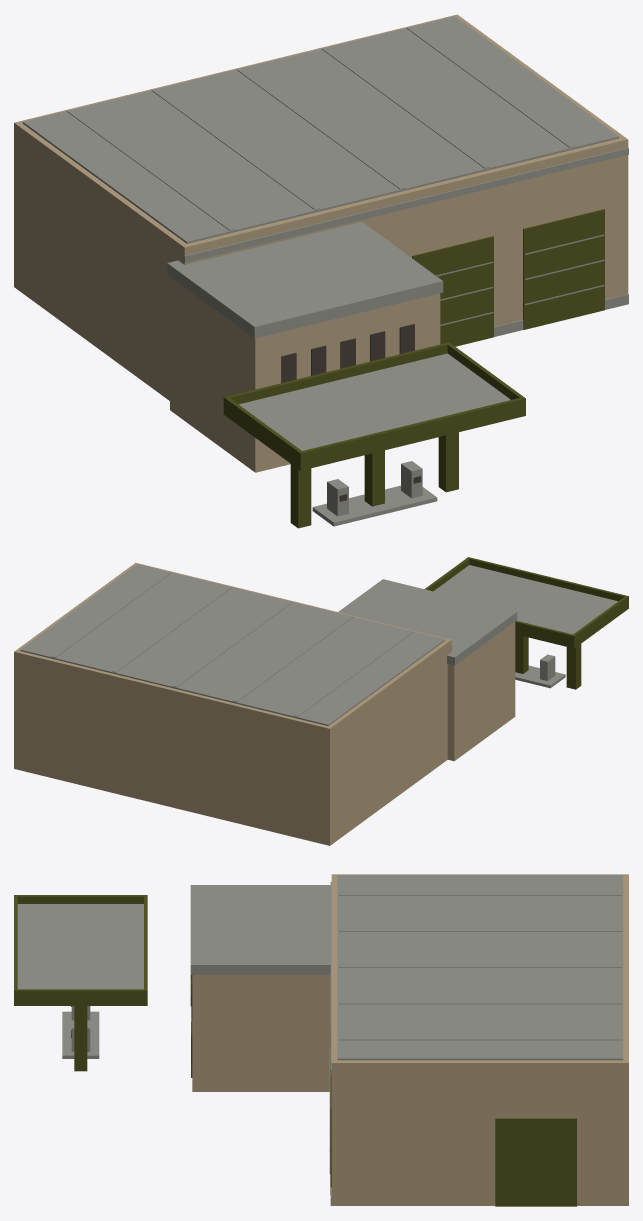
Rendered from SM_Cooperativa_v4_NaveVilavella_LOD0.fbx.
3 renders of one model, top to bottom at view 1: azimuth 30°, elevation 25°; view 2: azimuth 150°, elevation 25°; view 3: azimuth 270°, elevation 25°, orthographic. The views are drawn at different scales.
Visible parts, largest first — view 1: SM_bloques.cooperativa_v4_LOD0; view 2: SM_bloques.cooperativa_v4_LOD0; view 3: SM_bloques.cooperativa_v4_LOD0.
Boxes of the visible parts, x1,y1,x2,y2 form: SM_bloques.cooperativa_v4_LOD0: (14,14,628,528); SM_bloques.cooperativa_v4_LOD0: (14,557,628,845); SM_bloques.cooperativa_v4_LOD0: (14,874,628,1206).
Bounding box in the file's own units: 27.68 × 8.64 × 33.1.
